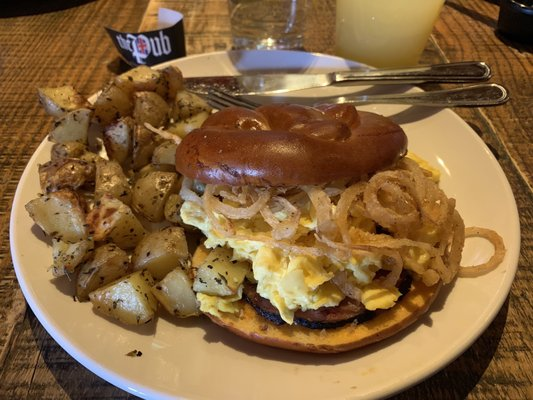soup: (175, 102, 454, 352)
